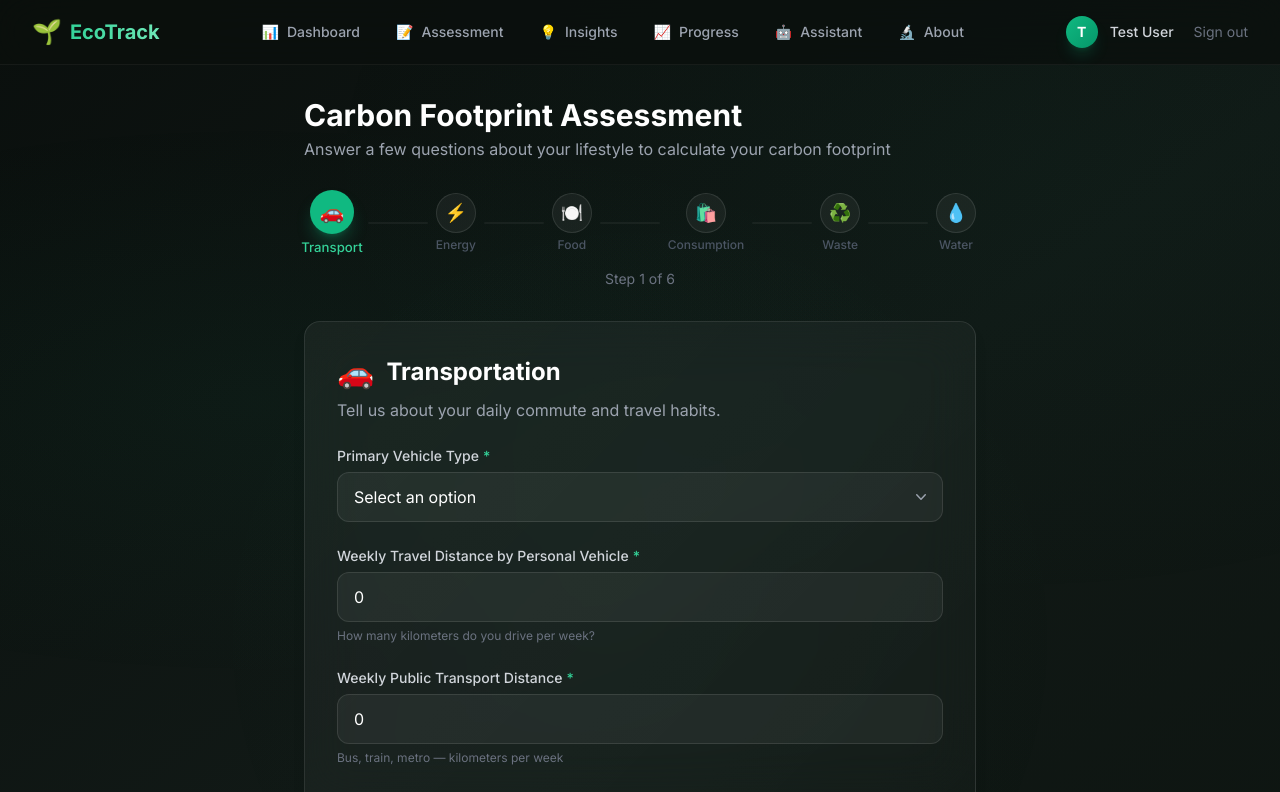
Test: Assessment Component › allows moving to the next step after completing the form fields
# Select petrol car
Select "🚗 Petrol Car" in the dropdown labelled "Primary Vehicle Type*" at (640, 497), box [337, 472, 943, 522]
(page scrolled)
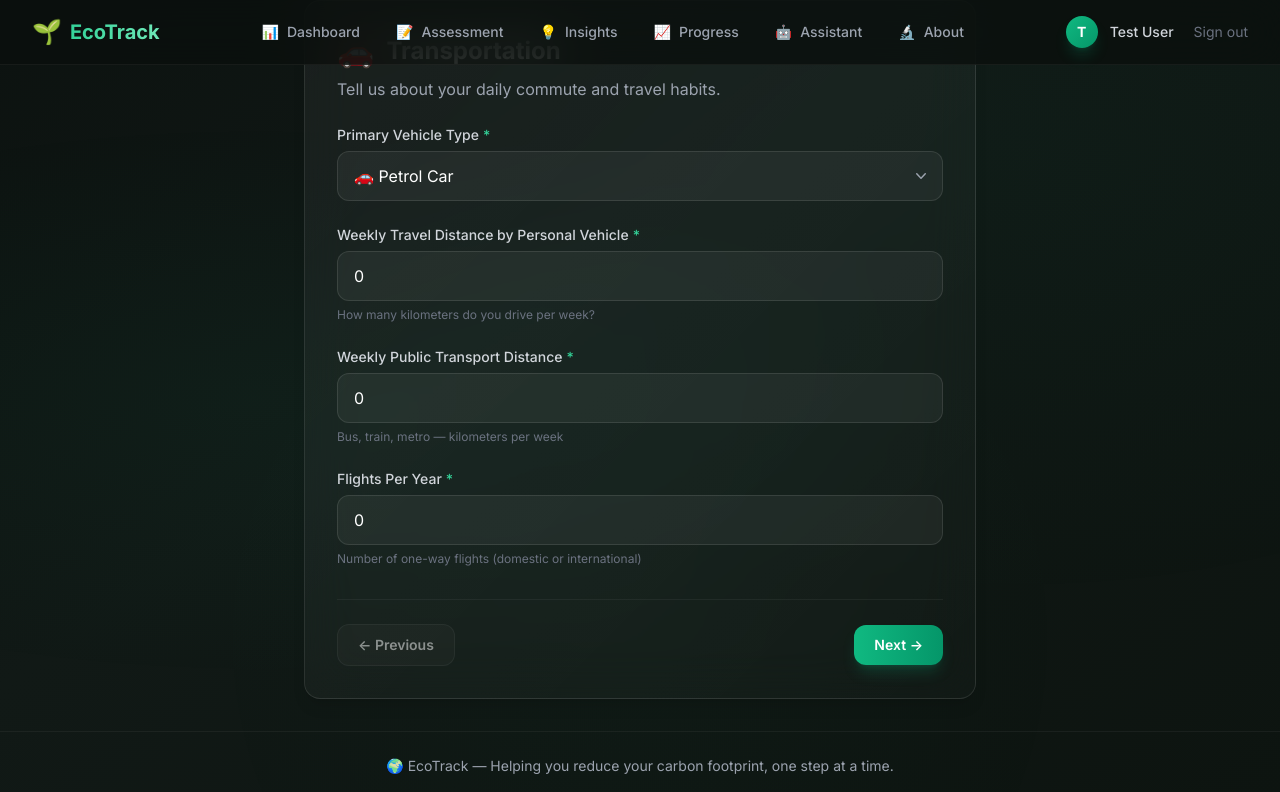
Click the button "Next →" at (899, 645), box [854, 625, 943, 665]
(page scrolled)
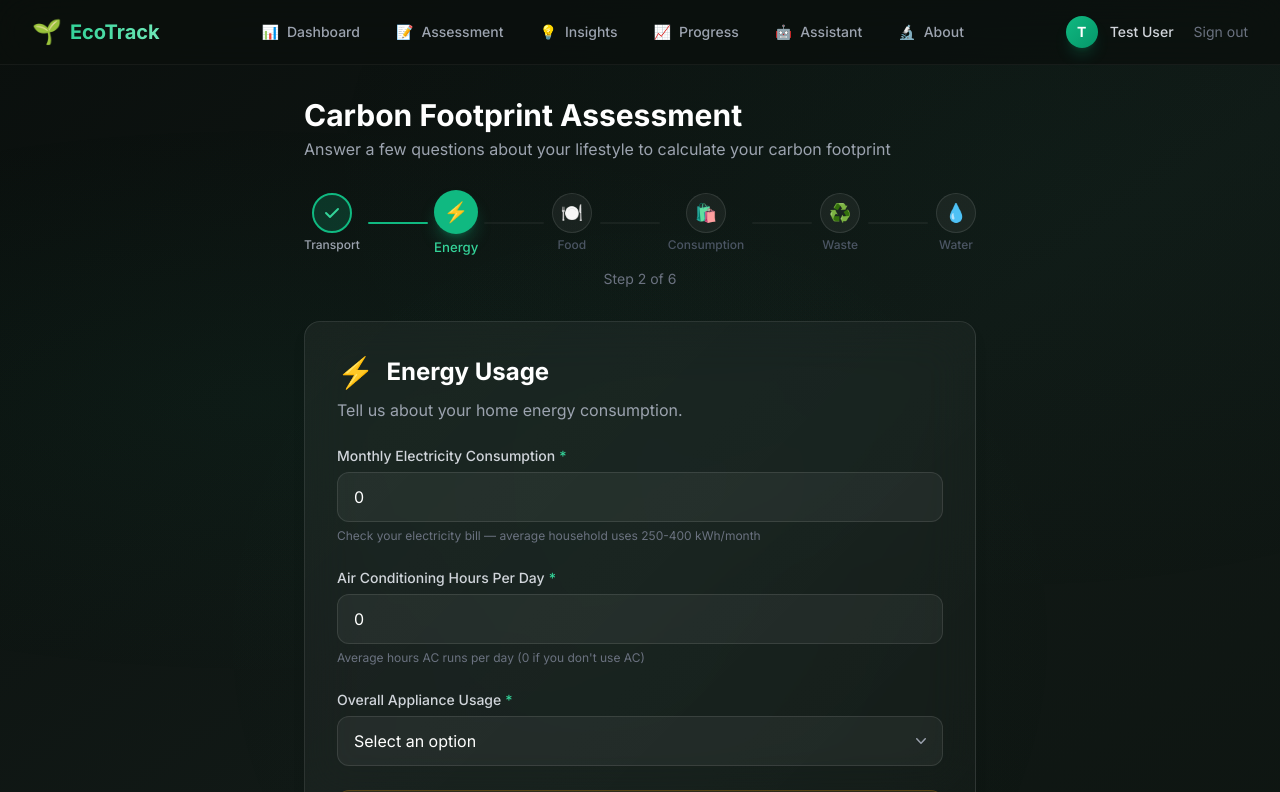
expect the text "Monthly Electricity Consumption*" is shown: met, box [337, 447, 566, 464]
